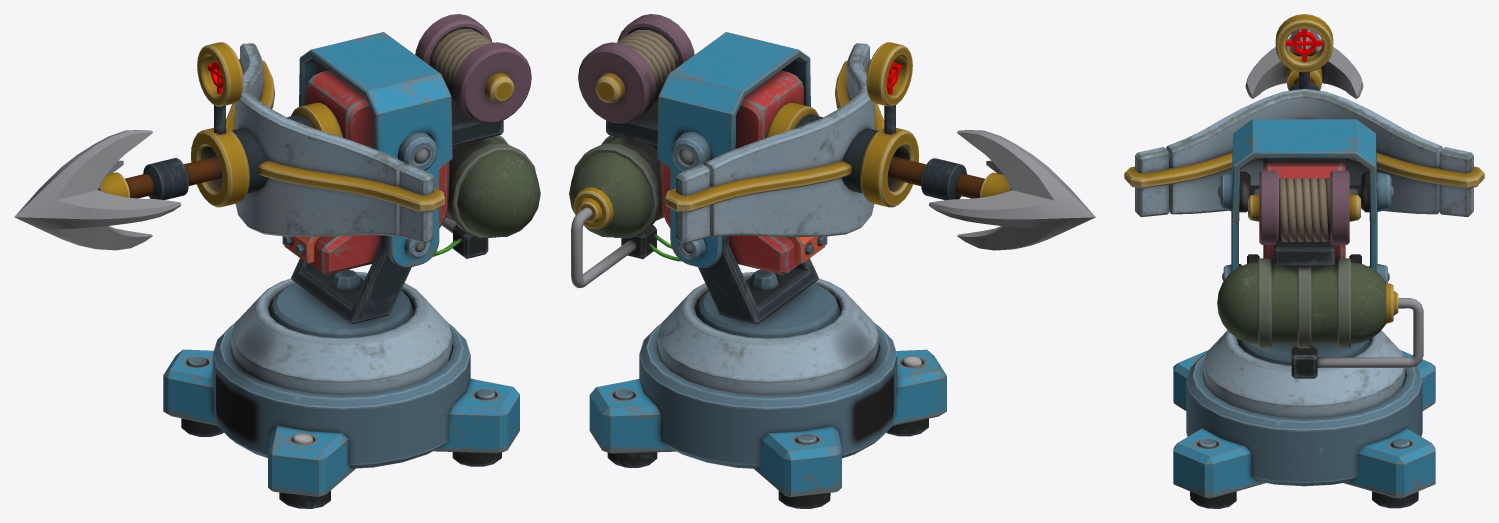
The model's file is harpoon_turret_rigged.glb.
3 renders of one model, left to right at view 1: azimuth 30°, elevation 25°; view 2: azimuth 150°, elevation 25°; view 3: azimuth 270°, elevation 25°, orthographic. The views are drawn at different scales.
Visible parts, largest first — view 1: Harpoon001, Harpoon009, Harpoon002, Harpoon033, Harpoon010, Harpoon017, Harpoon040, Harpoon020, Harpoon006, Harpoon019, Harpoon029, Harpoon038 (+13 smaller); view 2: Harpoon001, Harpoon009, Harpoon002, Harpoon033, Harpoon010, Harpoon017, Harpoon040, Harpoon020, Harpoon006, Harpoon019, Harpoon029, Harpoon038 (+14 smaller); view 3: Harpoon009, Harpoon001, Harpoon002, Harpoon033, Harpoon020, Harpoon010, Harpoon021, Harpoon038, Harpoon040, Harpoon012, Harpoon017, Harpoon028 (+8 smaller).
Boxes of the visible parts, bbox=[...] form: Harpoon001: bbox=[212, 323, 470, 468]; Harpoon009: bbox=[235, 43, 433, 243]; Harpoon002: bbox=[231, 271, 451, 394]; Harpoon033: bbox=[163, 349, 519, 496]; Harpoon010: bbox=[299, 32, 452, 267]; Harpoon017: bbox=[14, 130, 181, 250]; Harpoon040: bbox=[415, 14, 531, 123]; Harpoon020: bbox=[447, 137, 540, 237]; Harpoon006: bbox=[282, 70, 449, 274]; Harpoon019: bbox=[291, 235, 411, 323]; Harpoon029: bbox=[269, 276, 413, 337]; Harpoon038: bbox=[226, 59, 444, 212]; Harpoon001: bbox=[639, 323, 897, 468]; Harpoon009: bbox=[676, 43, 874, 243]; Harpoon002: bbox=[658, 272, 878, 395]; Harpoon033: bbox=[589, 349, 946, 497]; Harpoon010: bbox=[657, 32, 810, 267]; Harpoon017: bbox=[929, 130, 1095, 250]; Harpoon040: bbox=[578, 14, 694, 123]; Harpoon020: bbox=[569, 137, 662, 237]; Harpoon006: bbox=[660, 70, 827, 275]; Harpoon019: bbox=[698, 235, 818, 324]; Harpoon029: bbox=[696, 276, 840, 338]; Harpoon038: bbox=[665, 59, 884, 212]; Harpoon009: bbox=[1135, 89, 1473, 217]; Harpoon001: bbox=[1186, 352, 1422, 486]; Harpoon002: bbox=[1203, 330, 1405, 418]; Harpoon033: bbox=[1173, 350, 1435, 498]; Harpoon020: bbox=[1217, 262, 1398, 344]; Harpoon010: bbox=[1231, 119, 1377, 272]; Harpoon021: bbox=[1258, 258, 1350, 348]; Harpoon038: bbox=[1124, 152, 1484, 188]; Harpoon040: bbox=[1248, 170, 1360, 244]; Harpoon012: bbox=[1279, 177, 1329, 242]; Harpoon017: bbox=[1245, 29, 1363, 98]; Harpoon028: bbox=[1218, 171, 1393, 282].
Bounding box in the file's own units: 6.04 × 4.92 × 4.12.
1 material, 1 textured.
